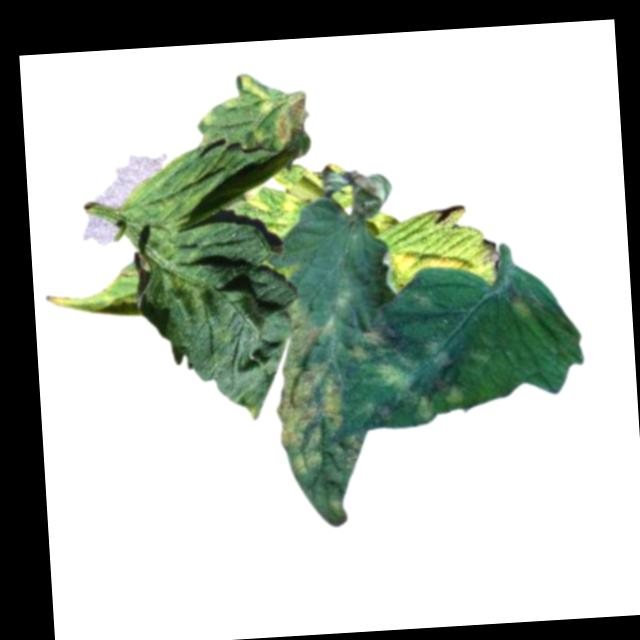Leaf_Mold: (268, 294, 365, 531), (348, 310, 473, 432), (240, 160, 360, 244), (193, 69, 307, 153), (43, 262, 144, 322), (389, 246, 482, 289)
